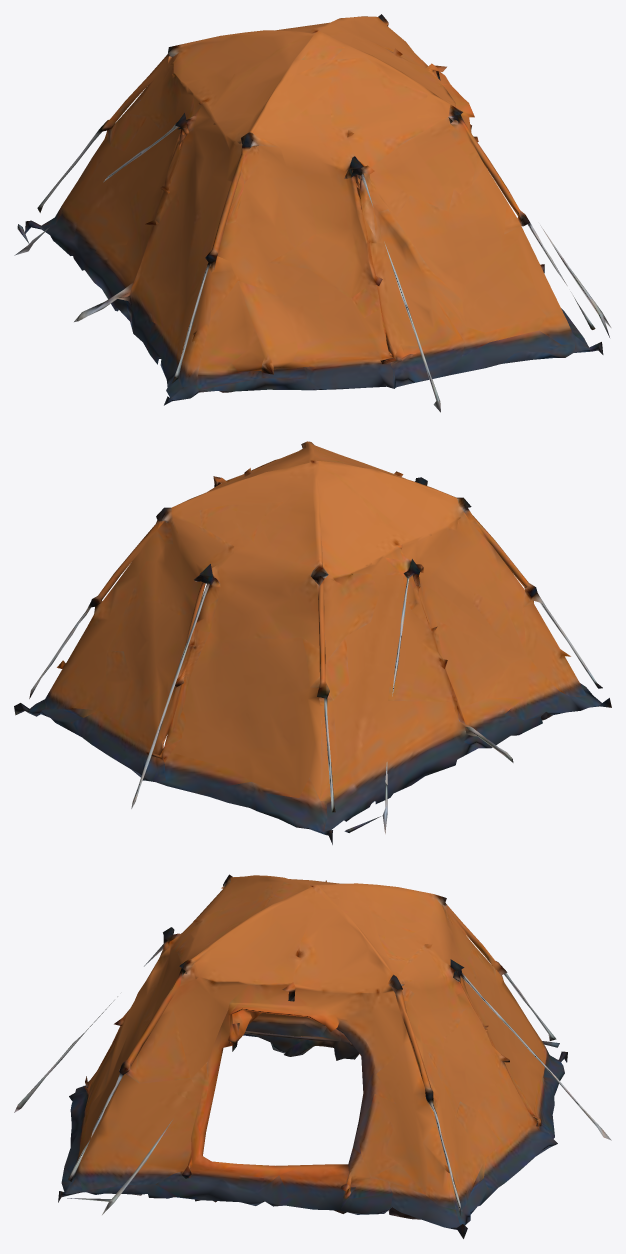
Rendered from carpa-hielo.glb.
3 views of the same model, one above another, from view 1: azimuth 30°, elevation 25°; view 2: azimuth 150°, elevation 25°; view 3: azimuth 270°, elevation 25° (orthographic). The views are drawn at different scales.
Parts seen in each view (by area): view 1: tripo_node_1eb177c5-c019-4a02-8090-f8f35d9ecac2; view 2: tripo_node_1eb177c5-c019-4a02-8090-f8f35d9ecac2; view 3: tripo_node_1eb177c5-c019-4a02-8090-f8f35d9ecac2.
Part boxes in pixels (x1,y1,x2,y2): tripo_node_1eb177c5-c019-4a02-8090-f8f35d9ecac2: (14,14,611,412); tripo_node_1eb177c5-c019-4a02-8090-f8f35d9ecac2: (14,441,611,844); tripo_node_1eb177c5-c019-4a02-8090-f8f35d9ecac2: (14,874,611,1238).
Bounding box in the file's own units: 0.8413 × 0.4626 × 1.
1 material, 1 textured.
